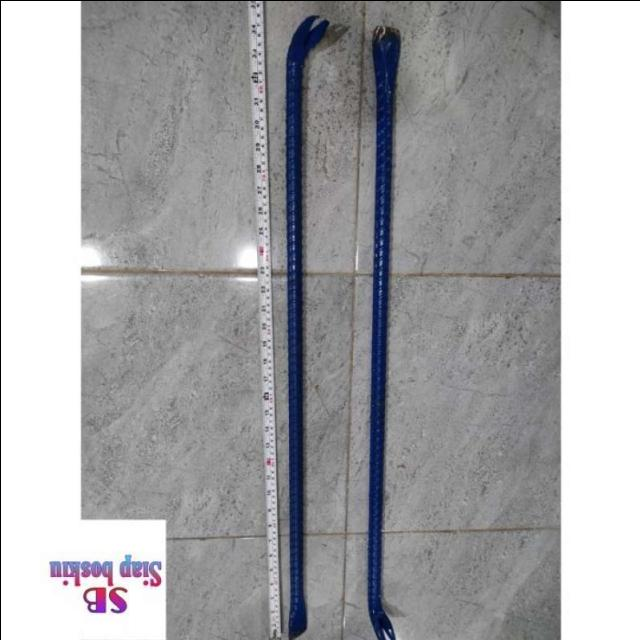Linggis: (362, 24, 397, 640)
